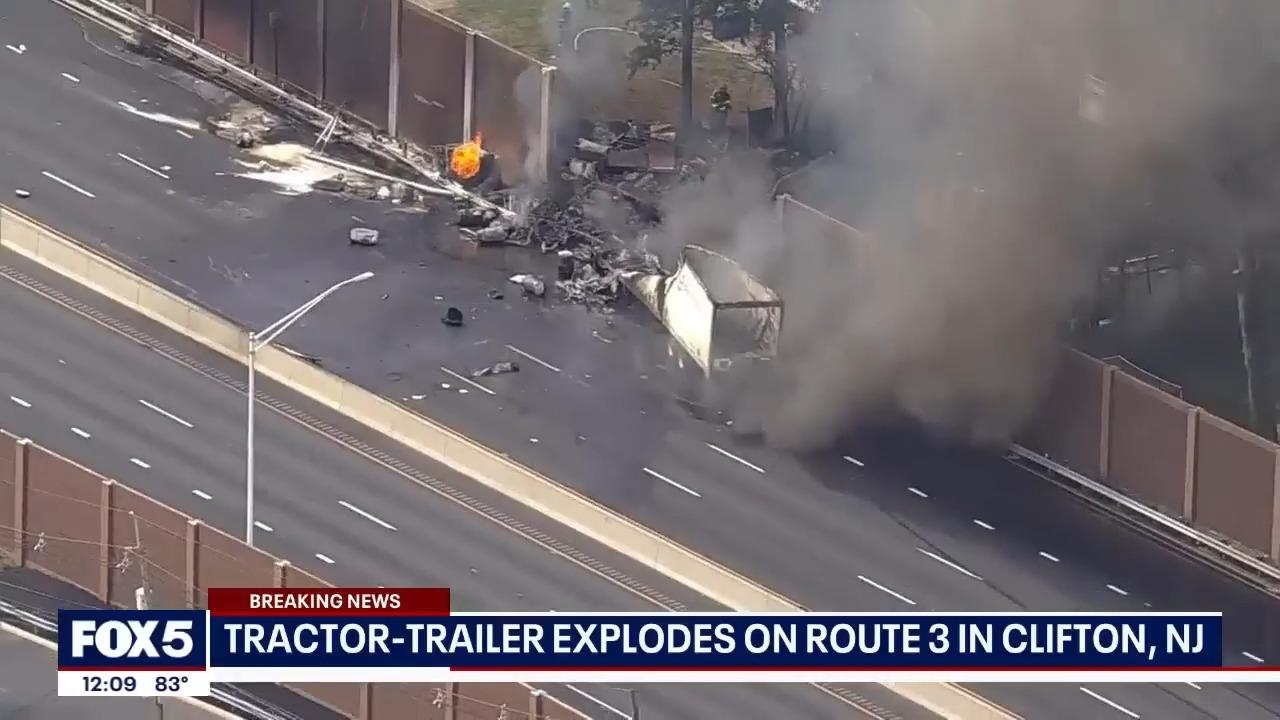fire: (435, 131, 494, 183)
